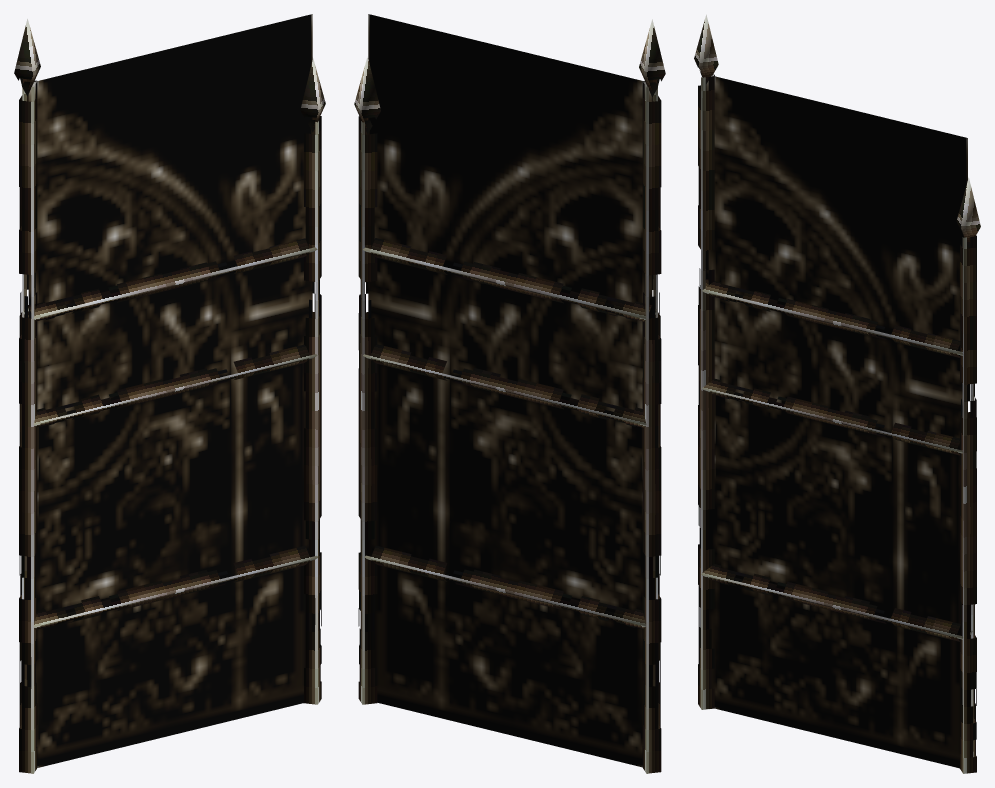
The model's file is SteelDoor01.obj.
The picture shows the model from 3 angles, left to right: view 1: azimuth 30°, elevation 25°; view 2: azimuth 150°, elevation 25°; view 3: azimuth 330°, elevation 25°; orthographic projection. The views are drawn at different scales.
Parts seen in each view (by area): view 1: Mesh_1, Mesh_0; view 2: Mesh_1, Mesh_0; view 3: Mesh_1, Mesh_0.
Part boxes in pixels (<box>): Mesh_1: <box>28,14,312,767</box>; Mesh_0: <box>14,18,325,773</box>; Mesh_1: <box>368,14,652,767</box>; Mesh_0: <box>354,19,665,773</box>; Mesh_1: <box>706,75,967,768</box>; Mesh_0: <box>694,14,980,773</box>.
Size of the model in its own units: 1.54 by 3.56 by 0.1332.
2 materials, 2 textured.
